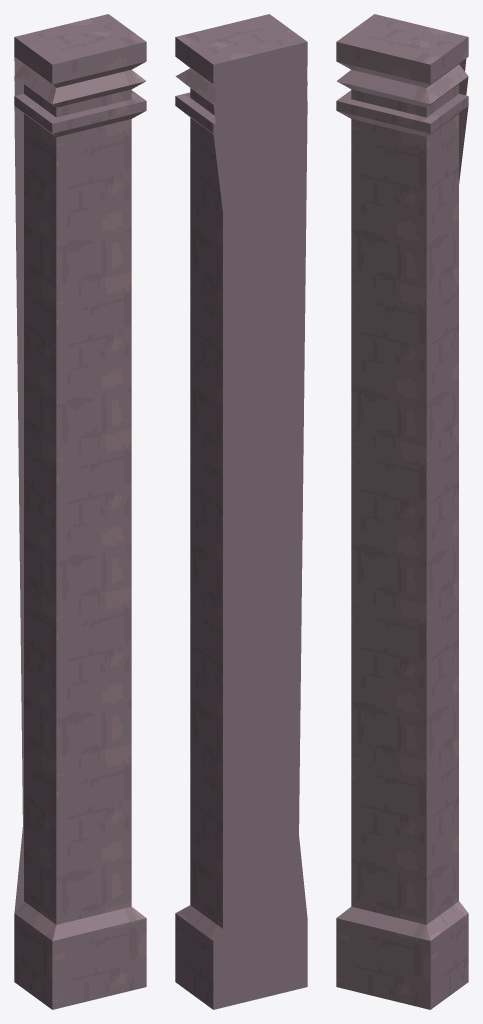
File: wandpfeiler_raum_c.glb
3 renders of one model, left to right at view 1: azimuth 30°, elevation 25°; view 2: azimuth 210°, elevation 25°; view 3: azimuth 330°, elevation 25°, orthographic.
Visible parts, largest first — view 1: pfeiler_raum; view 2: pfeiler_raum; view 3: pfeiler_raum.
Part boxes in pixels (x1,y1,x2,y2): pfeiler_raum: (14,14,146,1009); pfeiler_raum: (175,14,307,1009); pfeiler_raum: (336,14,468,1009).
Size of the model in its own units: 0.625 by 6 by 0.4375.
Materials: 1 (1 with a texture image).
